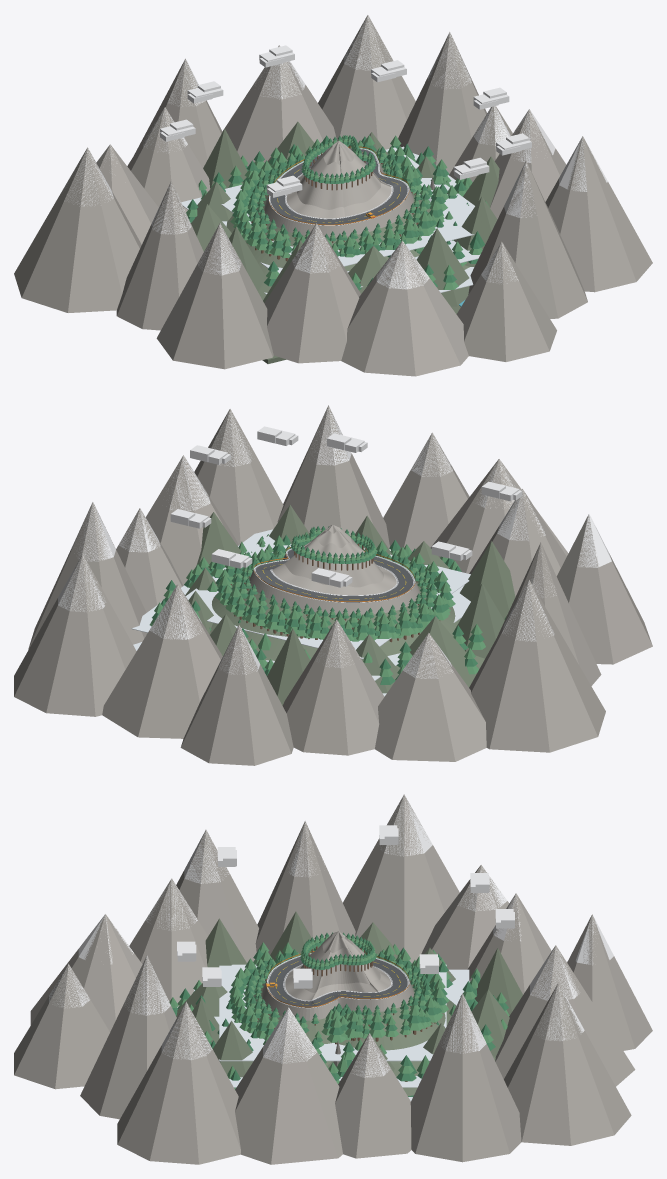
The model's file is mountain.glb.
3 views of the same model, one above another, from view 1: azimuth 30°, elevation 25°; view 2: azimuth 150°, elevation 25°; view 3: azimuth 270°, elevation 25° (orthographic). The views are drawn at different scales.
Visible parts, largest first — view 1: GrandPeak_7_Rock, GrandPeak_11_Rock, GrandPeak_9_Rock, GrandPeak_10_Rock, GrandPeak_14_Rock, GrandPeak_13_Rock, GrandPeak_12_Rock, GrandPeak_2_Rock, GrandPeak_8_Rock, GrandPeak_1_Rock, GrandPeak_3_Rock, SM_LeftCliffWall (+29 smaller); view 2: GrandPeak_7_Rock, GrandPeak_2_Rock, GrandPeak_3_Rock, GrandPeak_6_Rock, GrandPeak_4_Rock, GrandPeak_5_Rock, GrandPeak_9_Rock, GrandPeak_13_Rock, GrandPeak_14_Rock, GrandPeak_12_Rock, GrandPeak_1_Rock, SM_RightDeepAbyss (+30 smaller); view 3: GrandPeak_14_Rock, GrandPeak_2_Rock, GrandPeak_1_Rock, GrandPeak_15_Rock, GrandPeak_7_Rock, GrandPeak_12_Rock, GrandPeak_13_Rock, GrandPeak_0_Rock, GrandPeak_8_Rock, GrandPeak_3_Rock, GrandPeak_10_Rock, GrandPeak_9_Rock (+29 smaller).
Part boxes in pixels (<box>): GrandPeak_7_Rock: <box>14,147,141,312</box>; GrandPeak_11_Rock: <box>341,241,468,376</box>; GrandPeak_9_Rock: <box>156,223,273,369</box>; GrandPeak_10_Rock: <box>264,223,360,363</box>; GrandPeak_14_Rock: <box>545,136,652,292</box>; GrandPeak_13_Rock: <box>468,161,587,318</box>; GrandPeak_12_Rock: <box>456,241,556,361</box>; GrandPeak_2_Rock: <box>318,15,415,149</box>; GrandPeak_8_Rock: <box>116,181,203,330</box>; GrandPeak_1_Rock: <box>398,32,486,173</box>; GrandPeak_3_Rock: <box>222,45,336,166</box>; SM_LeftCliffWall: <box>286,140,391,218</box>; GrandPeak_7_Rock: <box>469,580,605,752</box>; GrandPeak_2_Rock: <box>14,554,136,716</box>; GrandPeak_3_Rock: <box>102,584,222,738</box>; GrandPeak_6_Rock: <box>375,633,486,761</box>; GrandPeak_4_Rock: <box>180,625,293,765</box>; GrandPeak_5_Rock: <box>282,619,384,755</box>; GrandPeak_9_Rock: <box>556,516,652,664</box>; GrandPeak_13_Rock: <box>277,405,389,549</box>; GrandPeak_14_Rock: <box>194,409,283,544</box>; GrandPeak_12_Rock: <box>383,433,469,551</box>; GrandPeak_1_Rock: <box>28,502,147,649</box>; SM_RightDeepAbyss: <box>209,554,484,669</box>; GrandPeak_14_Rock: <box>117,1002,240,1164</box>; GrandPeak_2_Rock: <box>504,983,631,1145</box>; GrandPeak_1_Rock: <box>410,993,521,1162</box>; GrandPeak_15_Rock: <box>235,1008,342,1164</box>; GrandPeak_7_Rock: <box>343,794,459,963</box>; GrandPeak_12_Rock: <box>14,963,109,1089</box>; GrandPeak_13_Rock: <box>80,955,176,1119</box>; GrandPeak_0_Rock: <box>335,1033,411,1158</box>; GrandPeak_8_Rock: <box>255,821,355,954</box>; GrandPeak_3_Rock: <box>495,945,635,1086</box>; GrandPeak_10_Rock: <box>129,878,207,1007</box>; GrandPeak_9_Rock: <box>176,830,258,962</box>.
Bounding box in the file's own units: 247 × 71.74 × 253.
